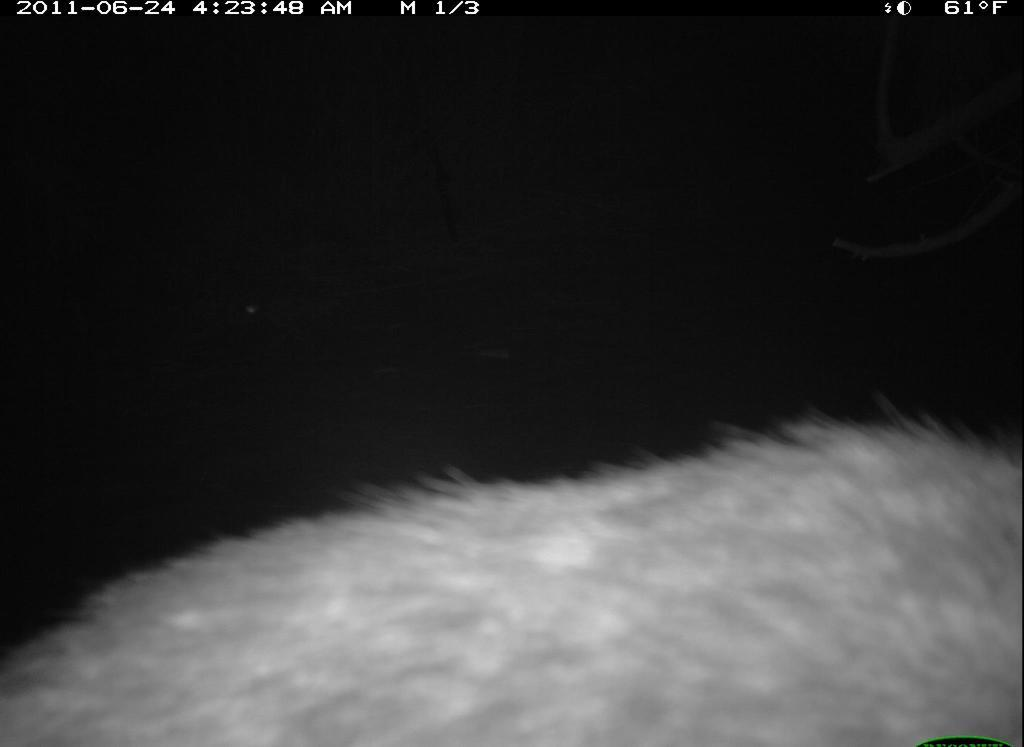raccoon: (11, 393, 1019, 743)
